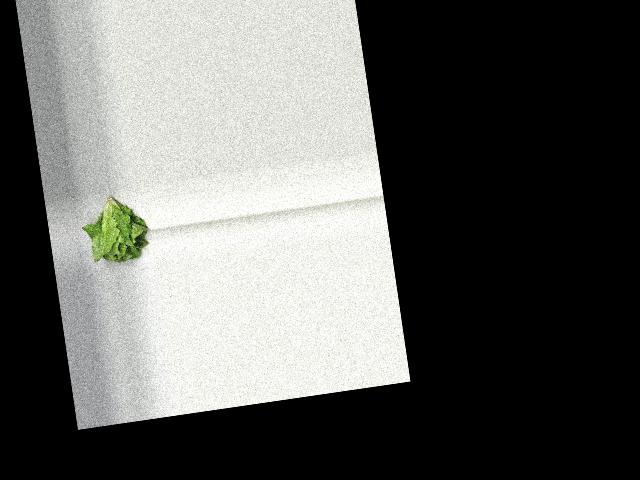lettuce: (78, 186, 156, 270)
